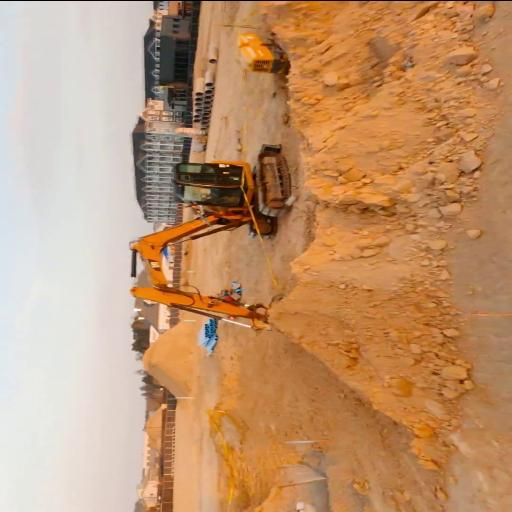uav: (174, 193, 210, 225)
